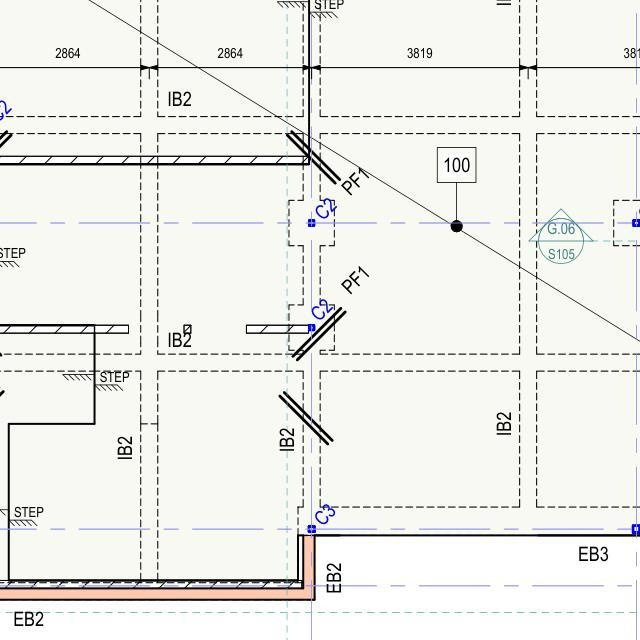EB2: (319, 551, 351, 596), (2, 599, 48, 630)
EB3: (572, 541, 615, 566)
IB2: (488, 398, 525, 440), (111, 431, 144, 463), (157, 82, 195, 109), (273, 425, 301, 456), (160, 330, 195, 348)
PF1: (335, 256, 369, 299), (334, 159, 369, 192)
